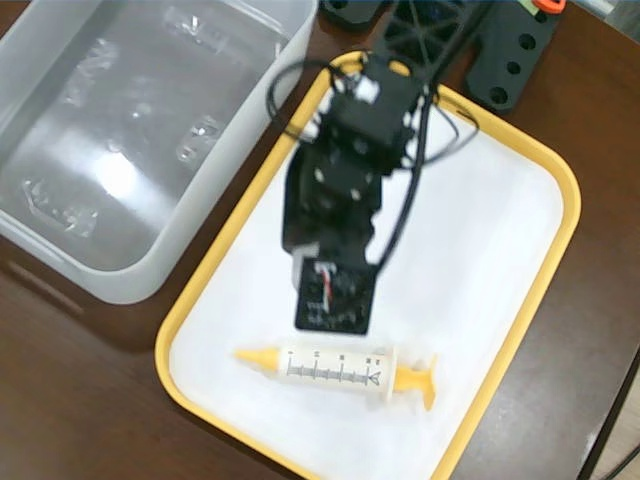syringe: (232, 342, 444, 414)
